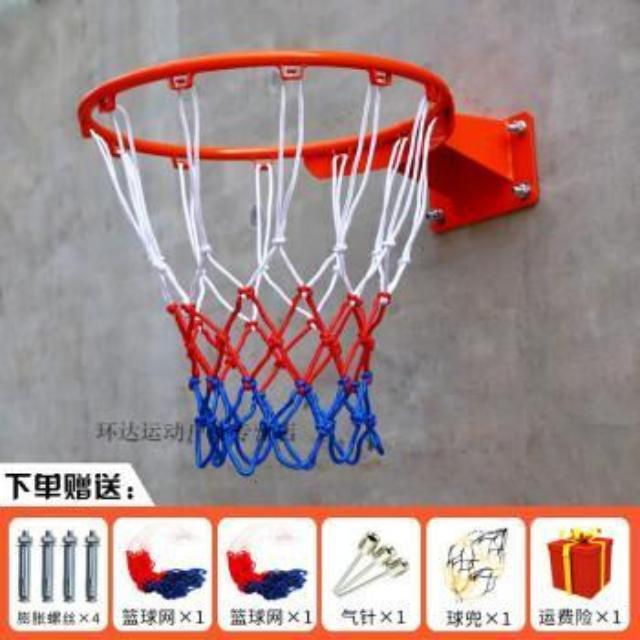rim: (78, 50, 444, 472)
